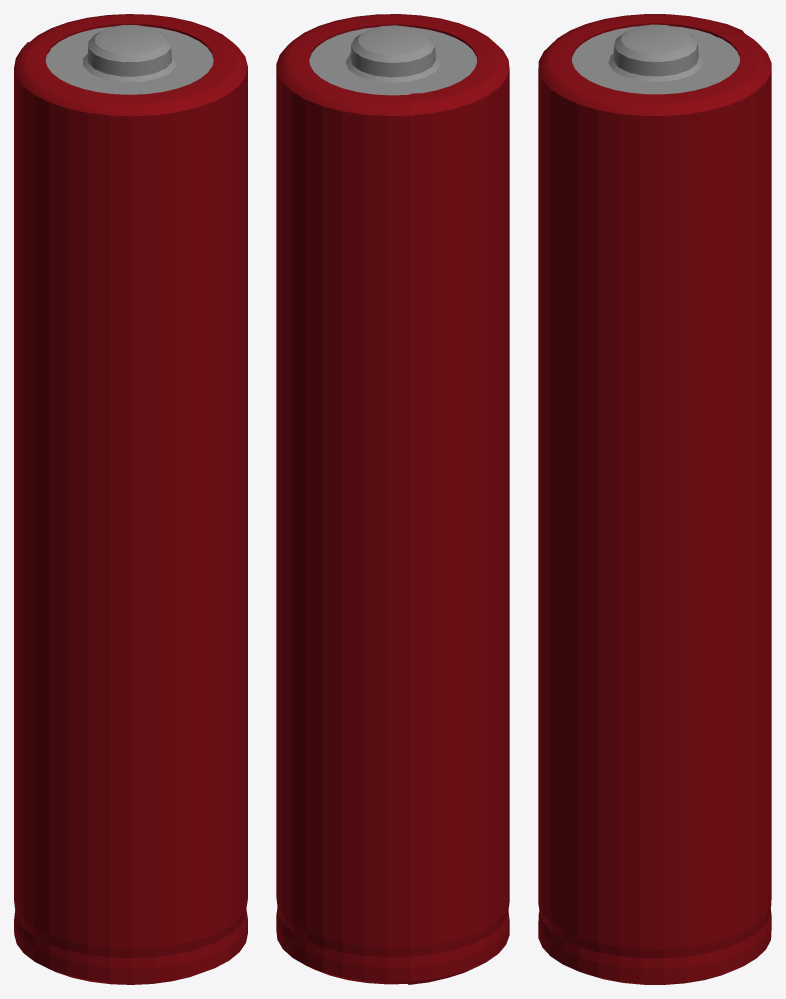
Rendered from AAA Battery 03.FBX.
3 views of the same model, side by side, from view 1: azimuth 30°, elevation 25°; view 2: azimuth 150°, elevation 25°; view 3: azimuth 270°, elevation 25° (orthographic).
Parts seen in each view (by area): view 1: AAA Battery 03; view 2: AAA Battery 03; view 3: AAA Battery 03.
Boxes of the visible parts, x1=… form: AAA Battery 03: x1=14, y1=14, x2=247, y2=984; AAA Battery 03: x1=276, y1=14, x2=509, y2=984; AAA Battery 03: x1=538, y1=14, x2=771, y2=984.
Size of the model in its own units: 16.99 by 73.09 by 16.99.
